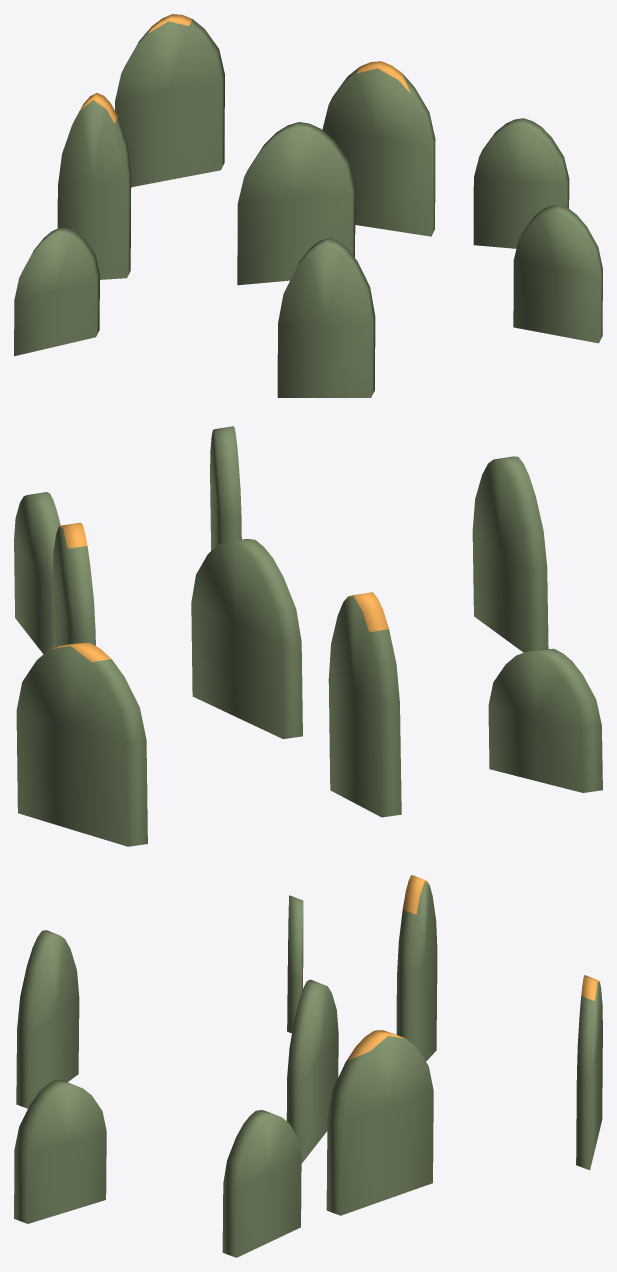
Rendered from grassTuft-compressed.glb.
3 views of the same model, one above another, from view 1: azimuth 30°, elevation 25°; view 2: azimuth 150°, elevation 25°; view 3: azimuth 270°, elevation 25° (orthographic). The views are drawn at different scales.
Visible parts, largest first — view 1: grassTuft; view 2: grassTuft; view 3: grassTuft.
Boxes of the visible parts, <box> form: grassTuft: <box>14,14,602,397</box>; grassTuft: <box>14,426,602,846</box>; grassTuft: <box>14,875,602,1257</box>.
Size of the model in its own units: 0.6802 by 0.22 by 0.633.
